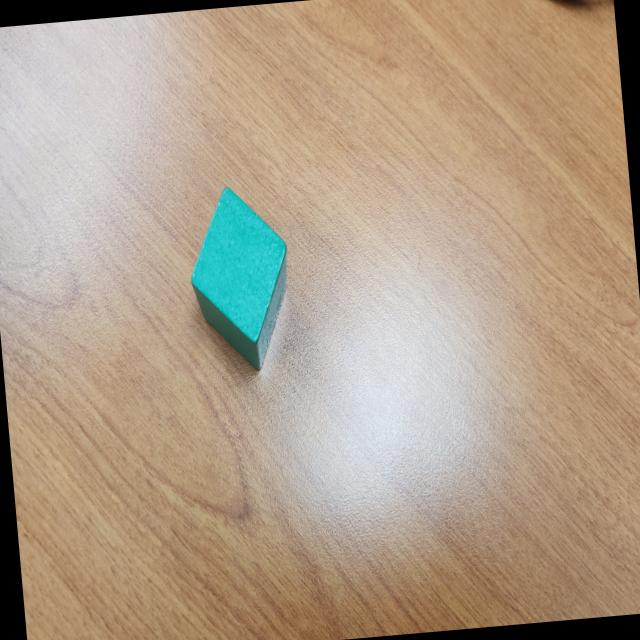green: (182, 181, 296, 373)
